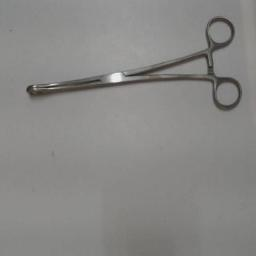Sponge Forceps: (21, 10, 245, 116)
